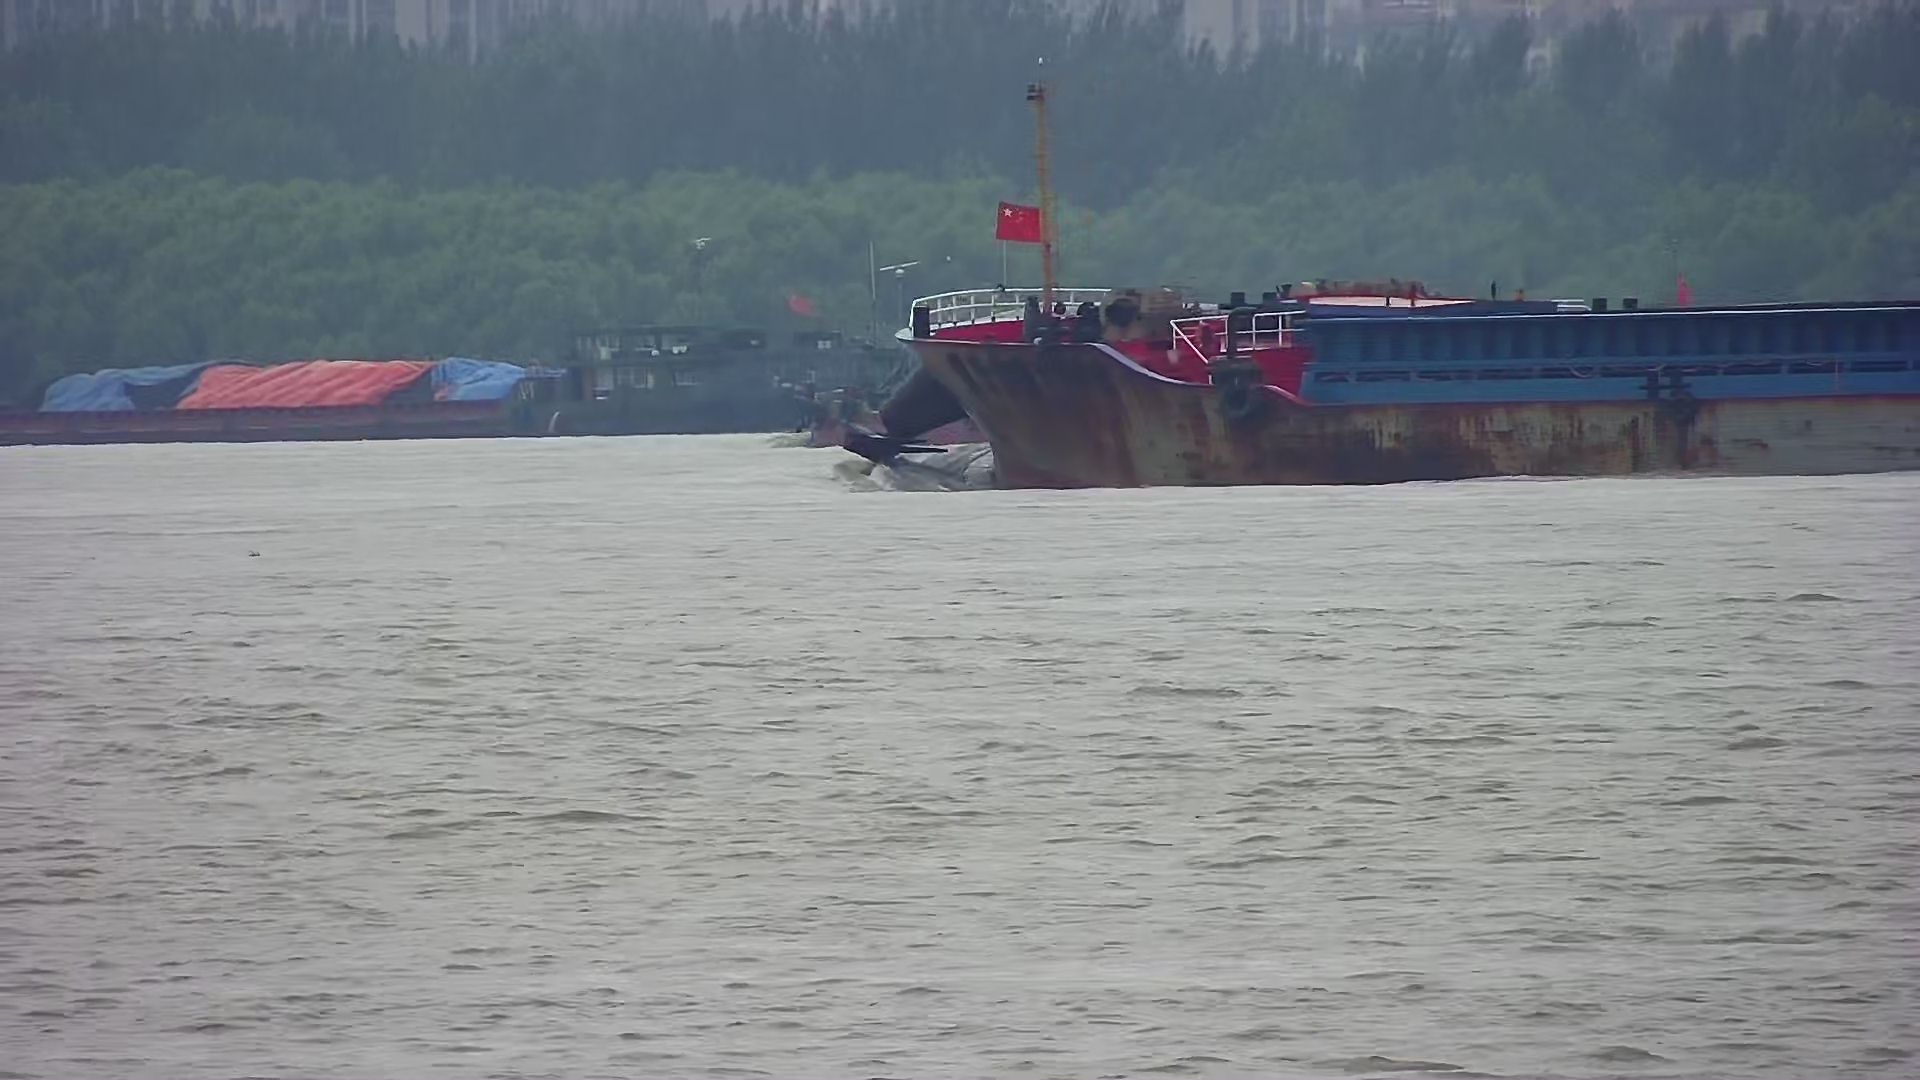ship: (899, 55, 1920, 489), (1, 322, 910, 438)
